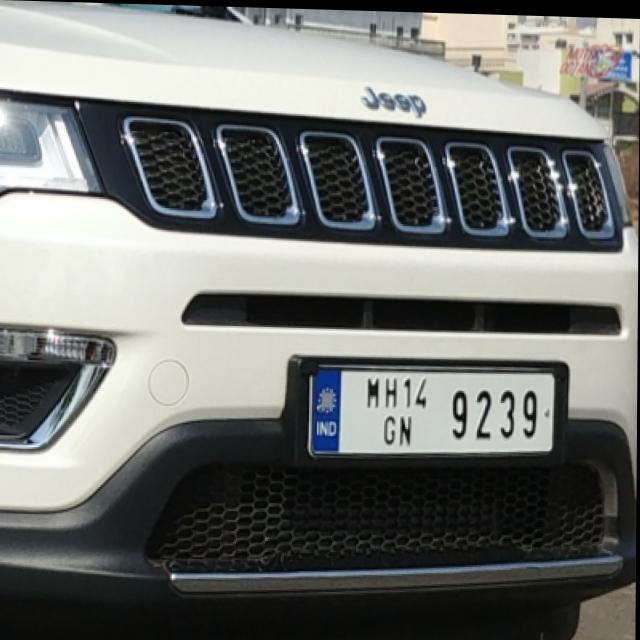licence: (311, 363, 558, 456)
